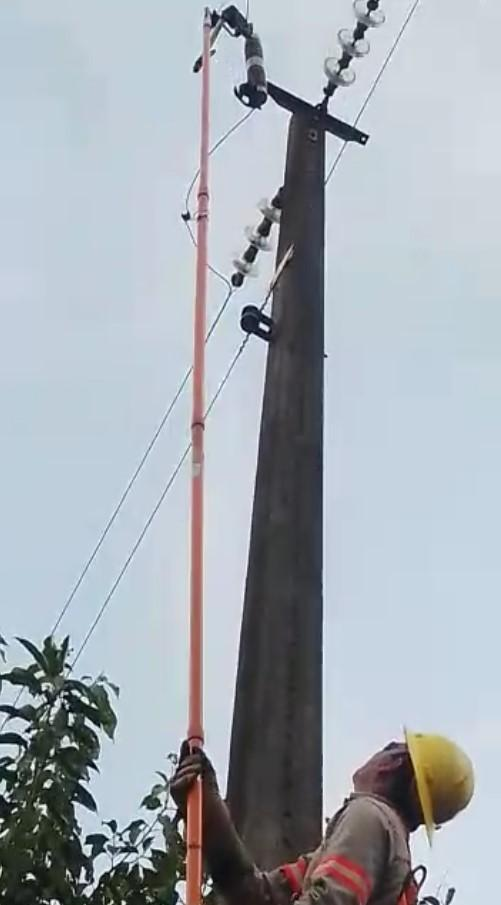helmet: (348, 725, 483, 853)
